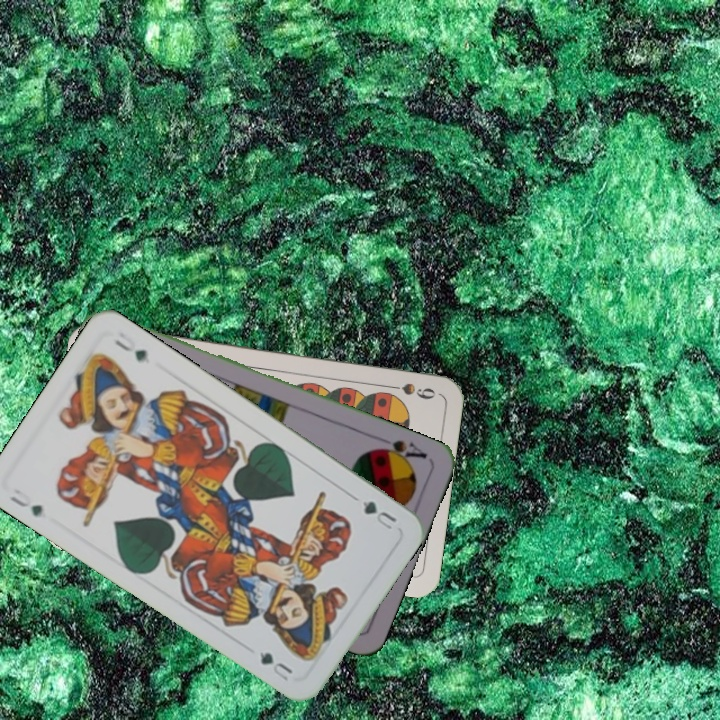GU: (349, 492, 400, 533), (6, 485, 46, 520)
S9: (379, 379, 438, 402)
SA: (371, 433, 430, 467)
